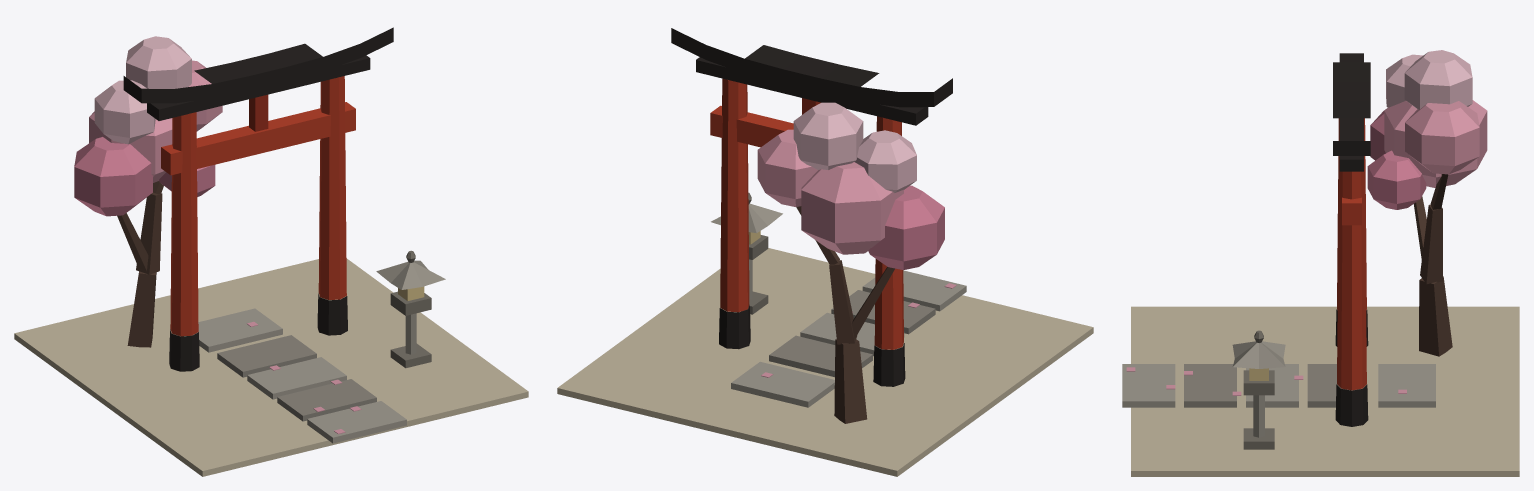
Rendered from torii.glb.
3 views of the same model, side by side, from view 1: azimuth 30°, elevation 25°; view 2: azimuth 150°, elevation 25°; view 3: azimuth 270°, elevation 25° (orthographic). The views are drawn at different scales.
Visible parts, largest first — view 1: torii; view 2: torii; view 3: torii.
Boxes of the visible parts, x1,y1,x2,y2 form: torii: (14,27,528,476); torii: (557,28,1093,476); torii: (1122,50,1519,476).
Size of the model in its own units: 1.76 by 1.59 by 1.8.
